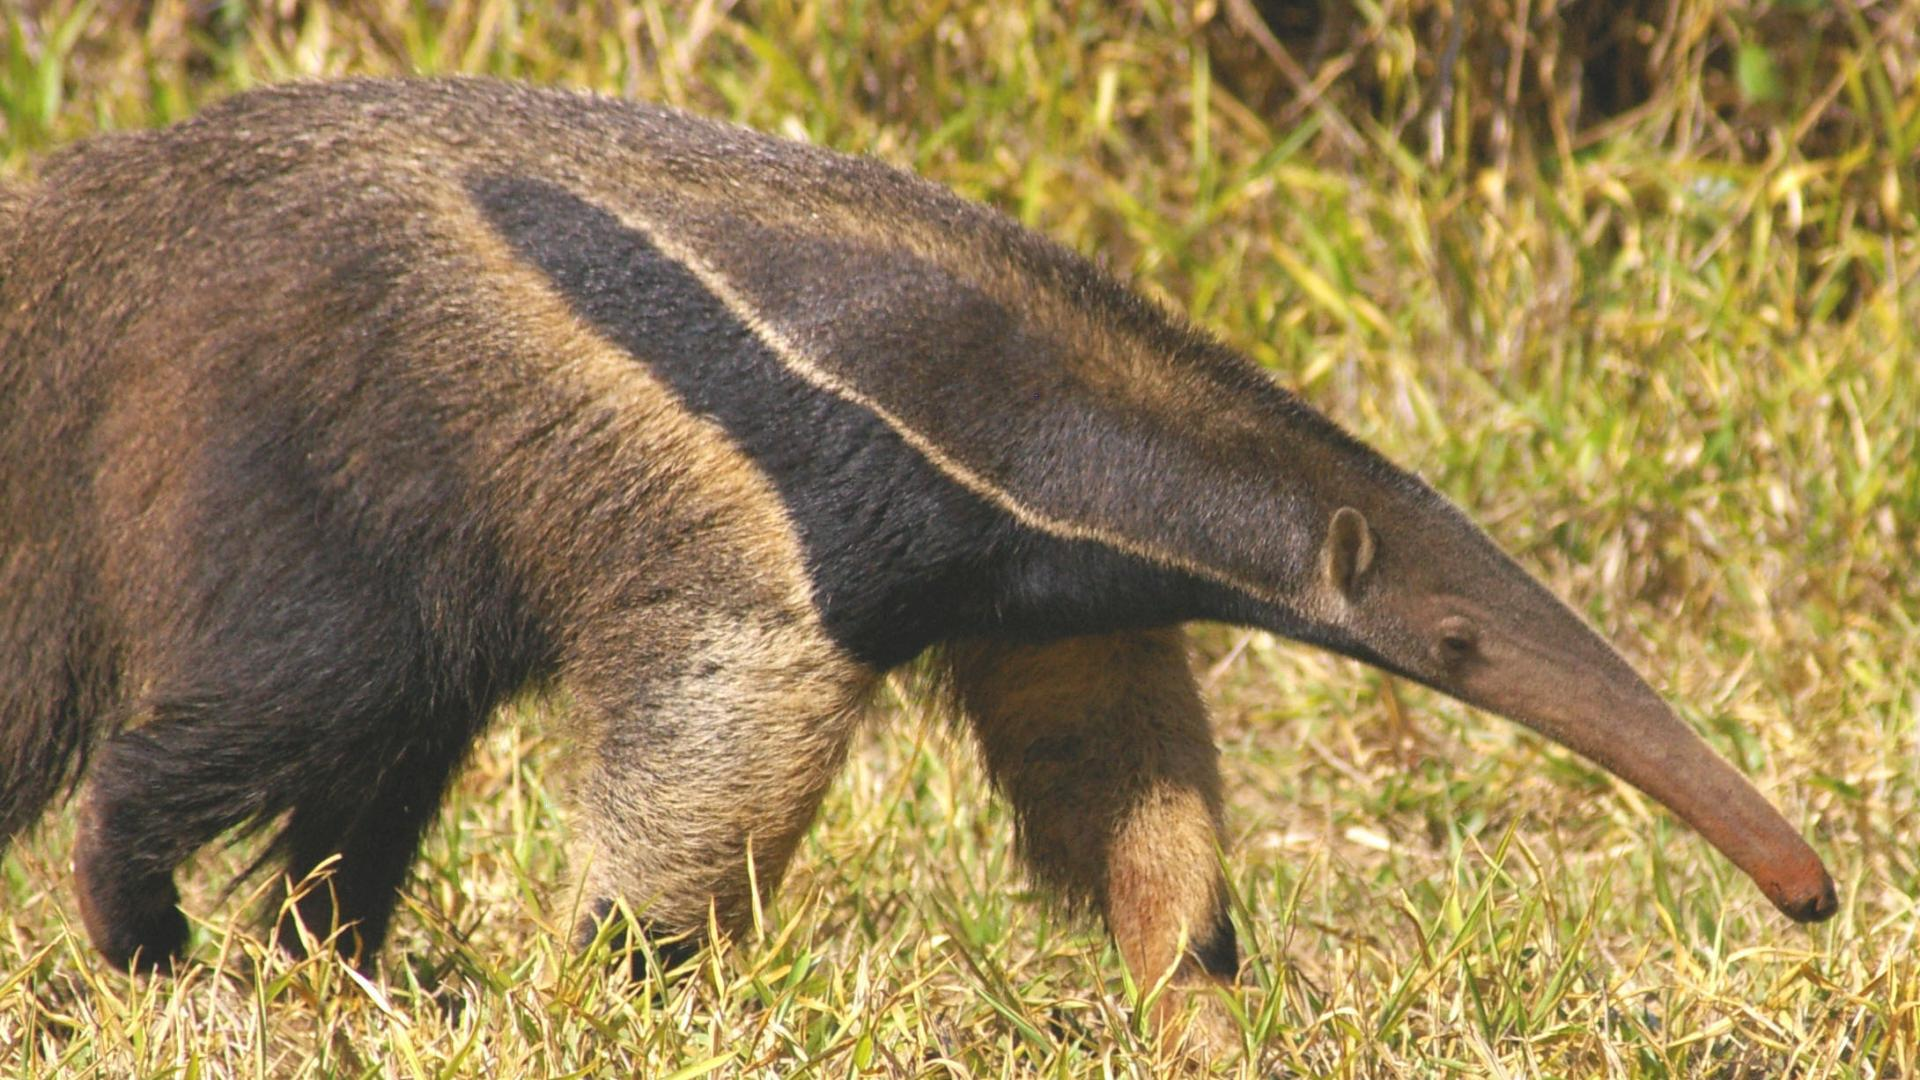TamanduaBandeira: (17, 67, 1847, 1039)
